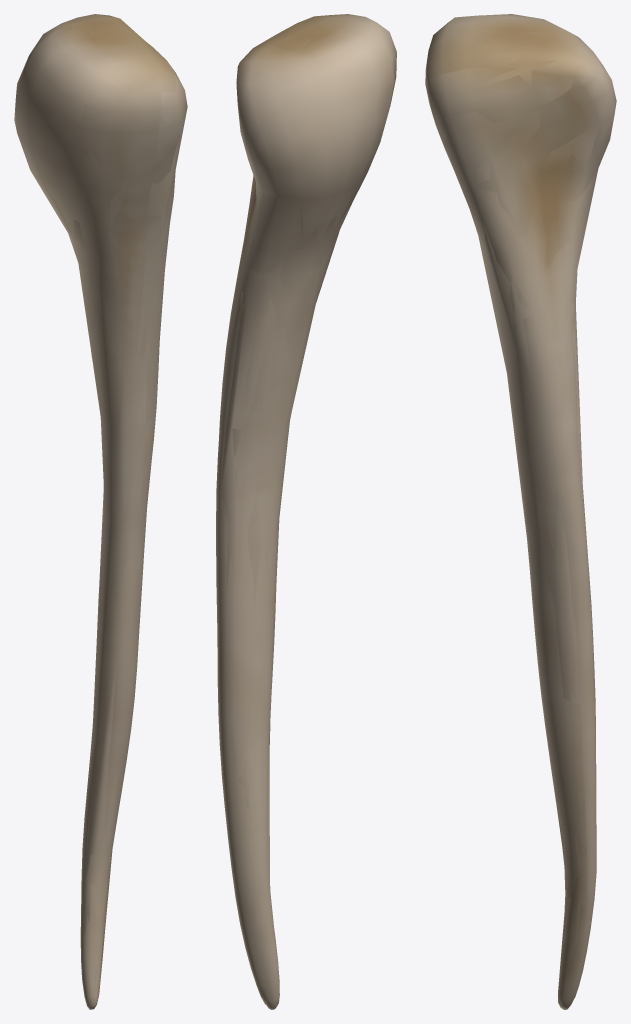
Rendered from L metatarsi secundum.fbx.
3 views of the same model, side by side, from view 1: azimuth 30°, elevation 25°; view 2: azimuth 150°, elevation 25°; view 3: azimuth 270°, elevation 25° (orthographic). The views are drawn at different scales.
Visible parts, largest first — view 1: L metatarsi secundum, L metatarsi secundum low; view 2: L metatarsi secundum, L metatarsi secundum low; view 3: L metatarsi secundum, L metatarsi secundum low.
Part boxes in pixels (left/top/right/bottom): L metatarsi secundum: left=14, top=14, right=187, bottom=1009; L metatarsi secundum low: left=15, top=16, right=187, bottom=993; L metatarsi secundum: left=216, top=14, right=396, bottom=1009; L metatarsi secundum low: left=219, top=16, right=395, bottom=1005; L metatarsi secundum: left=425, top=14, right=616, bottom=1009; L metatarsi secundum low: left=425, top=19, right=614, bottom=1000.
Bounding box in the file's own units: 2.98 × 19.98 × 3.57.
Materials: 1 (1 with a texture image).
